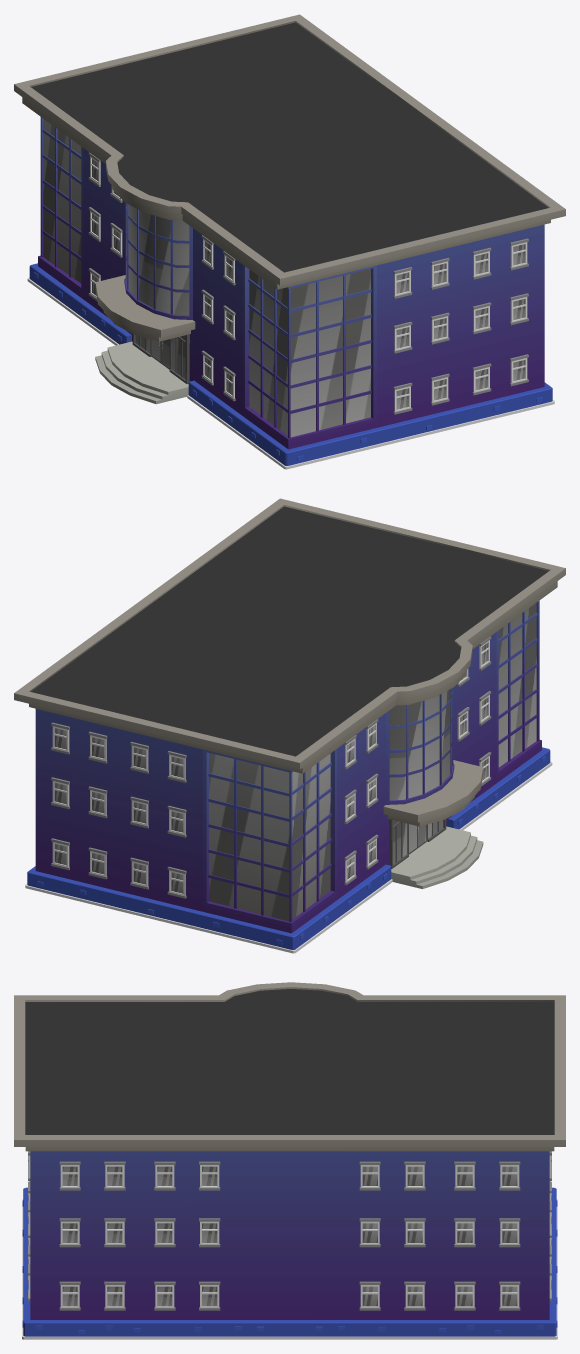
File: Building_23_B.fbx
The picture shows the model from 3 angles, top to bottom: view 1: azimuth 30°, elevation 25°; view 2: azimuth 150°, elevation 25°; view 3: azimuth 270°, elevation 25°; orthographic projection. The views are drawn at different scales.
Visible parts, largest first — view 1: Building_23_B; view 2: Building_23_B; view 3: Building_23_B.
Boxes of the visible parts, x1,y1,x2,y2 form: Building_23_B: (14, 14, 565, 469); Building_23_B: (14, 498, 565, 953); Building_23_B: (14, 982, 565, 1339).
Size of the model in its own units: 2073 by 1207 by 2972.
